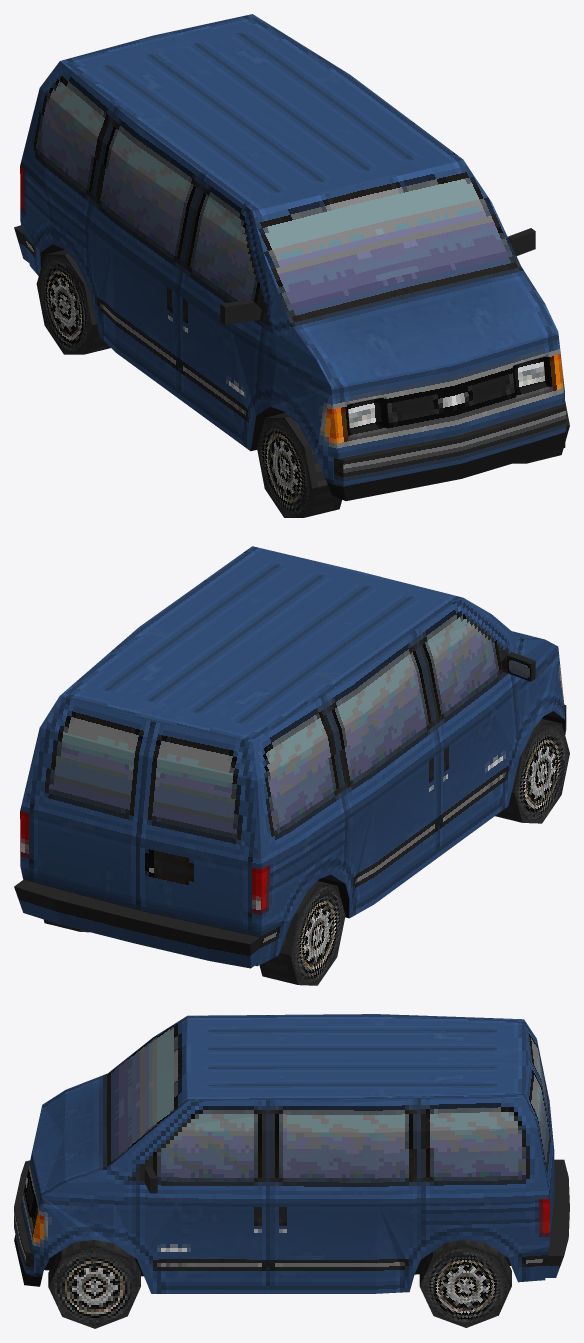
File: Bus.glb
3 views of the same model, one above another, from view 1: azimuth 30°, elevation 25°; view 2: azimuth 150°, elevation 25°; view 3: azimuth 270°, elevation 25° (orthographic). The views are drawn at different scales.
Visible parts, largest first — view 1: Car4; view 2: Car4; view 3: Car4.
Part boxes in pixels (left/top/right/bottom): Car4: left=14, top=14, right=569, bottom=517; Car4: left=14, top=546, right=569, bottom=985; Car4: left=14, top=1014, right=569, bottom=1328.
Bounding box in the file's own units: 3.4 × 2.74 × 6.3.
Materials: 1 (1 with a texture image).
